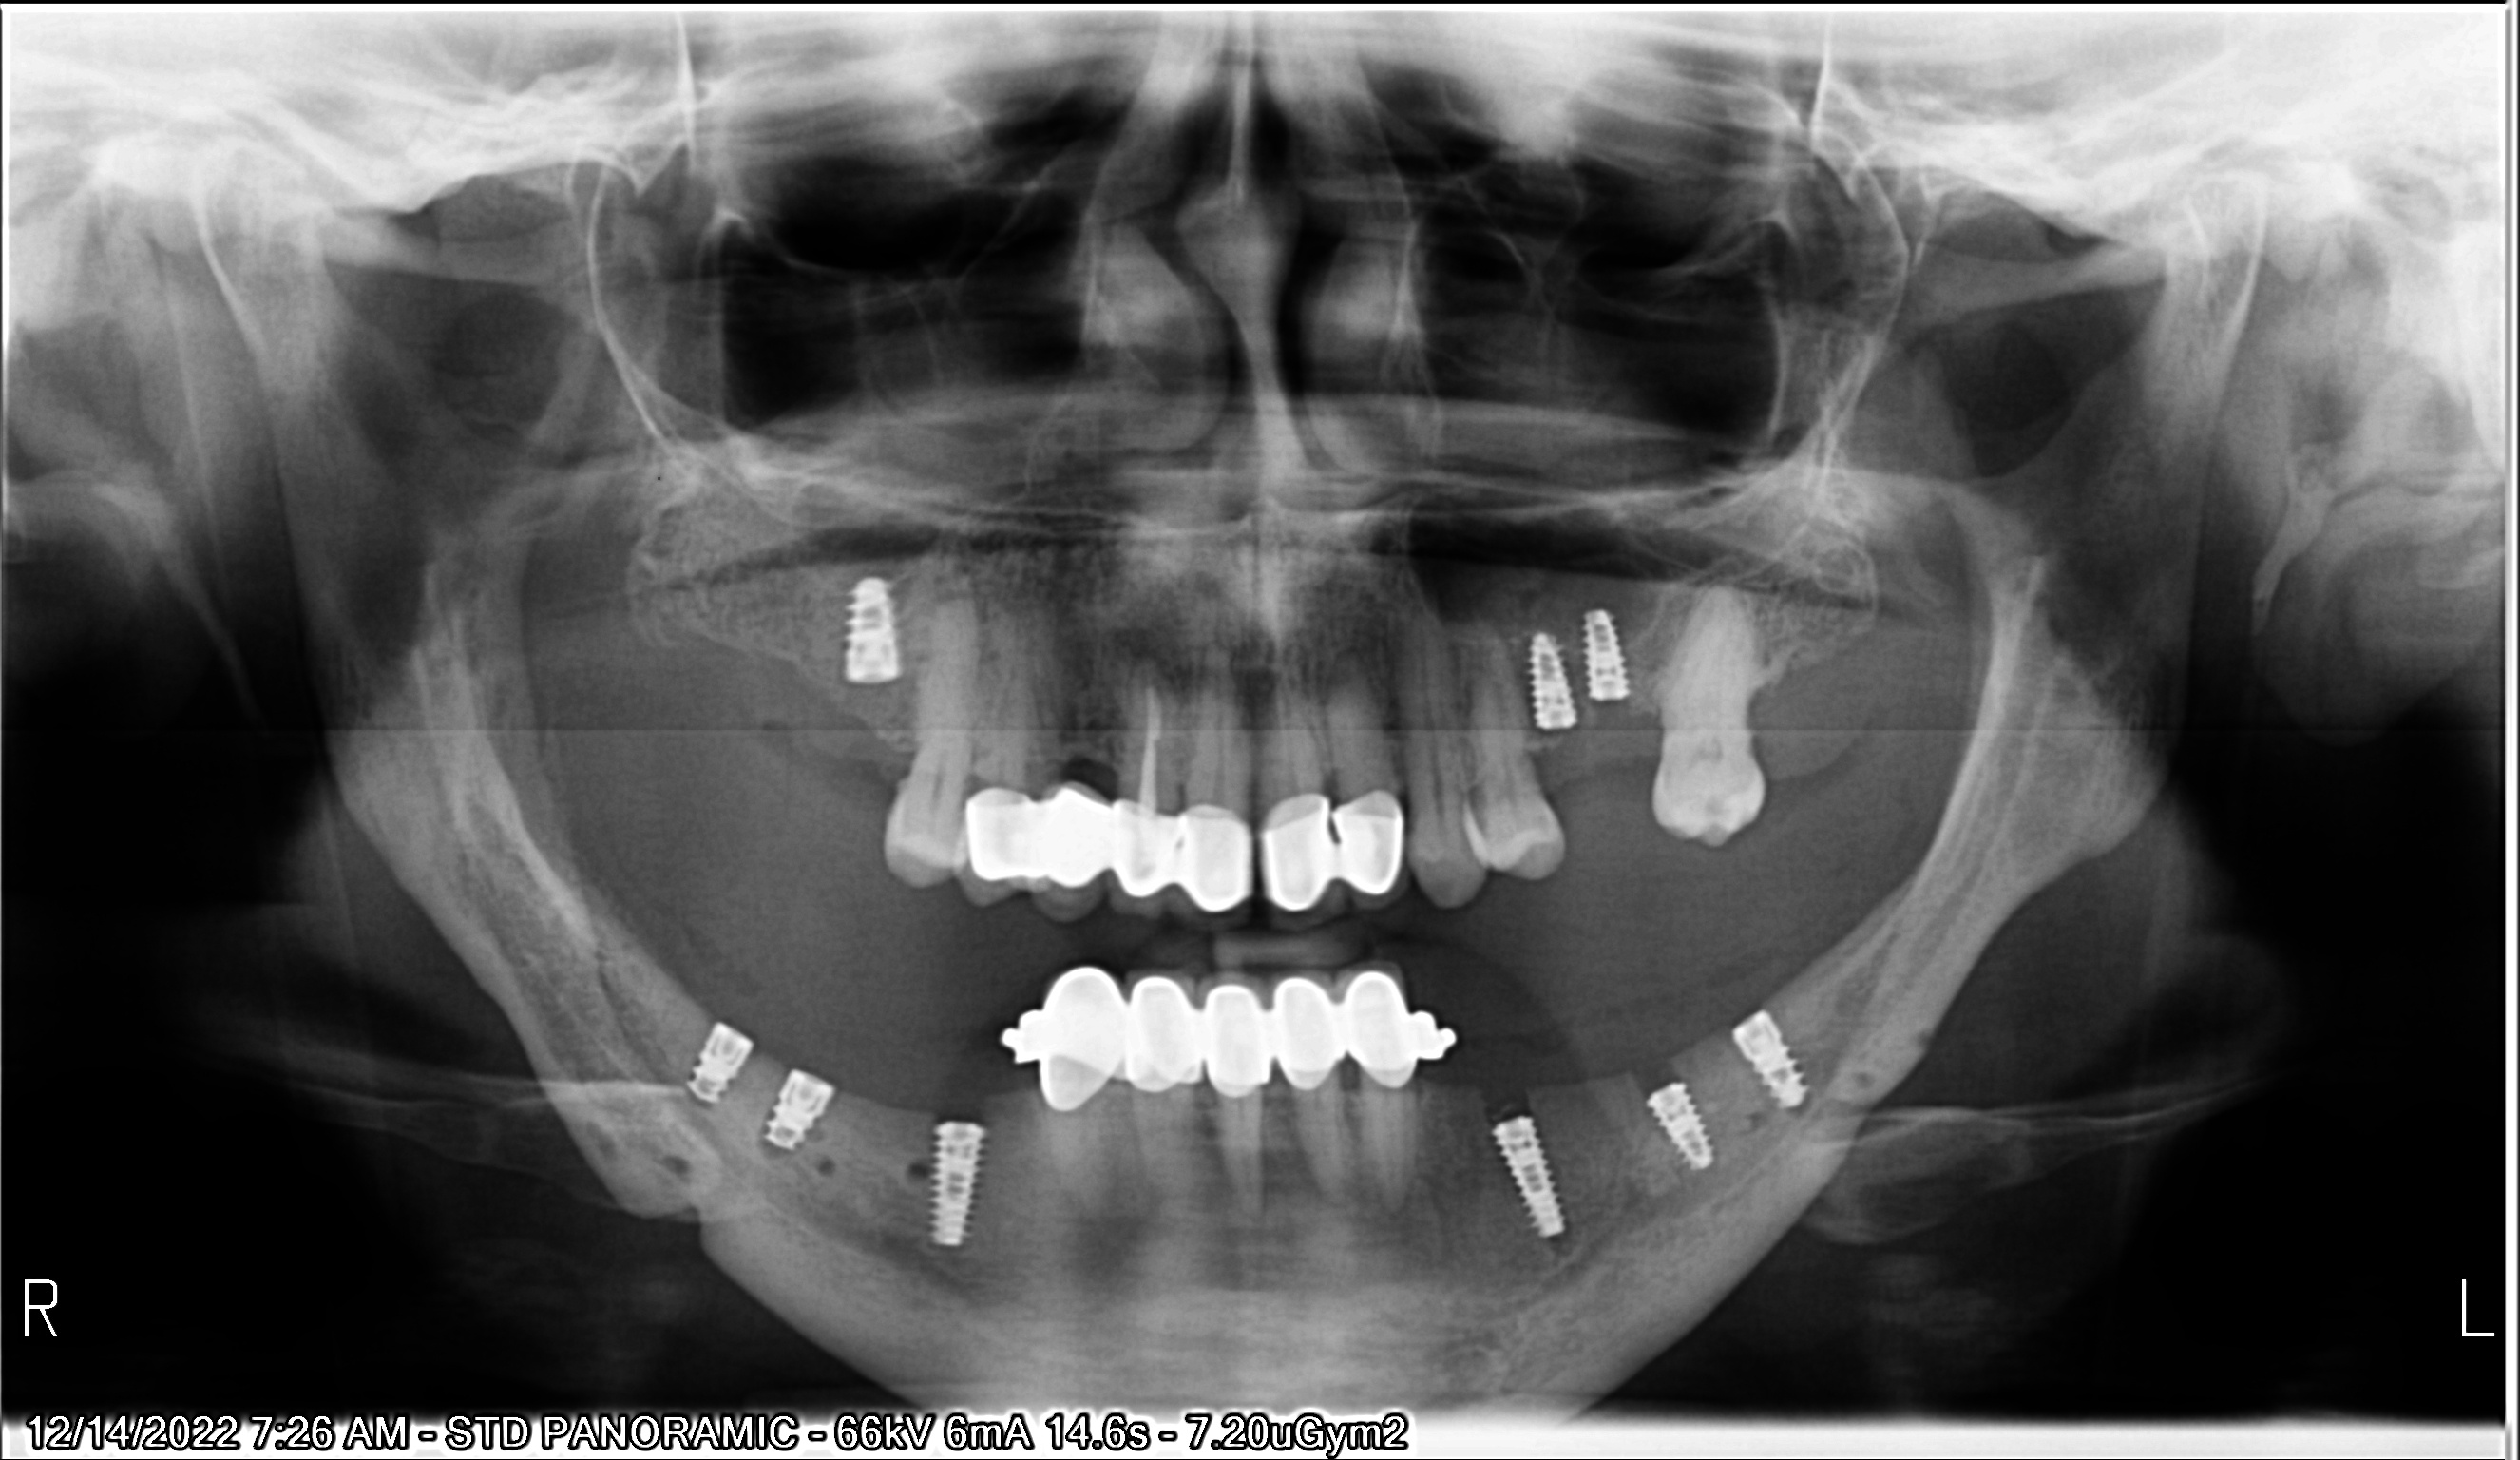END: (1113, 655, 1188, 810)
IMP: (1462, 1105, 1589, 1253), (891, 1107, 1018, 1255), (1492, 608, 1612, 756), (808, 556, 929, 697), (742, 1053, 856, 1168), (1626, 1069, 1737, 1182), (1568, 582, 1653, 727), (651, 1020, 782, 1109), (1732, 982, 1803, 1119)
PRR: (981, 935, 1471, 1126), (922, 766, 1428, 930)
